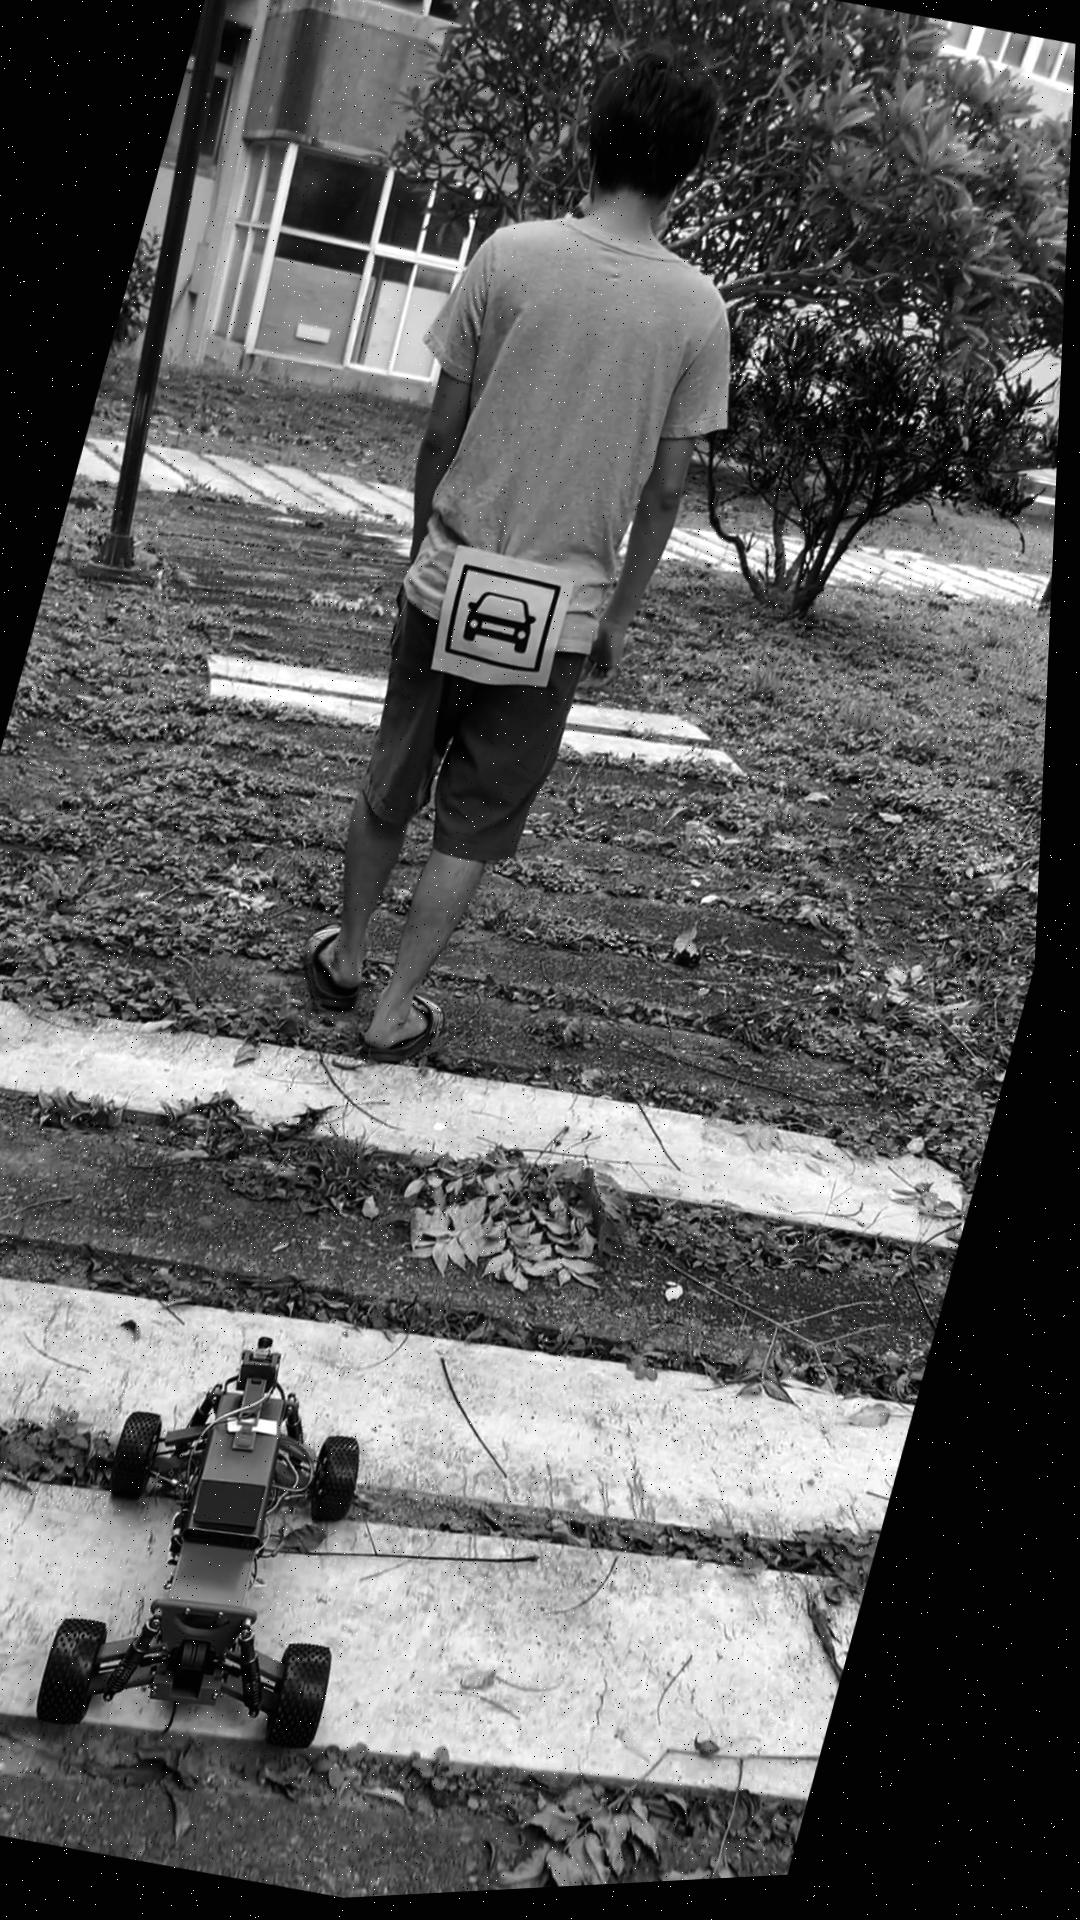car_img: (444, 564, 571, 684)
